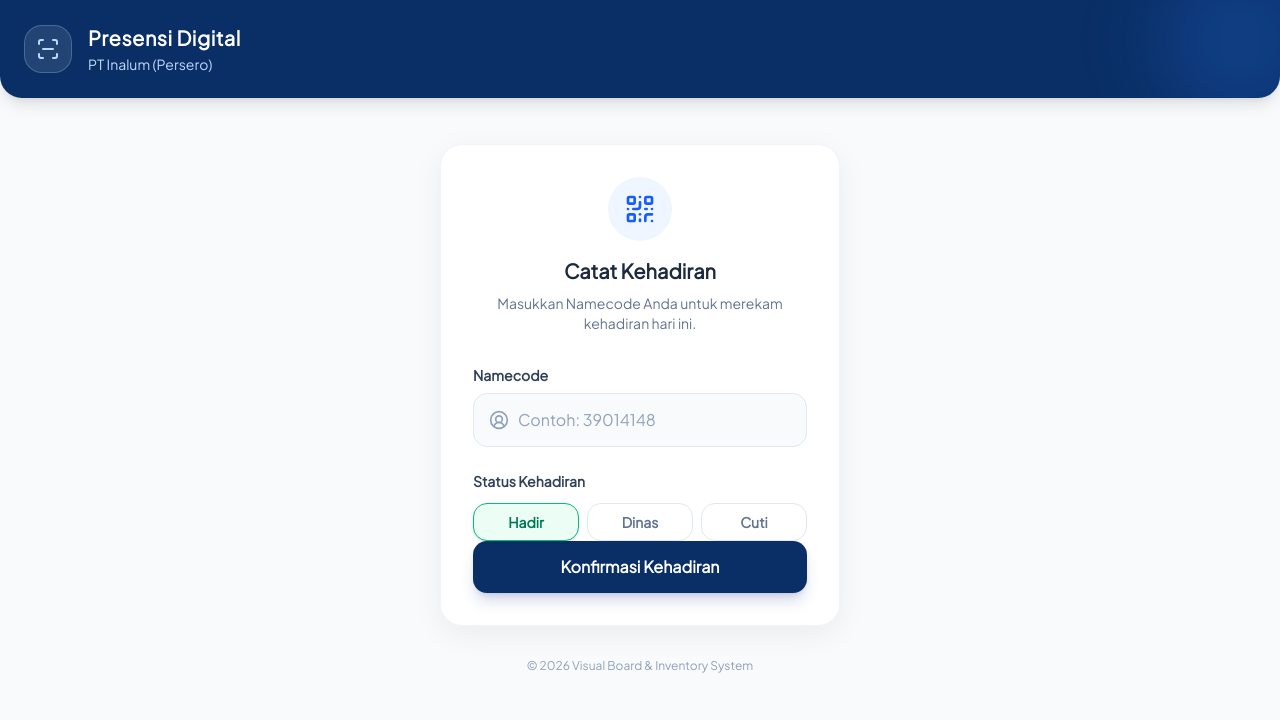
MobileAttendance Page › submits selected attendance status and transitions to confirmation state
The width and height of the screenshot is (1280, 720).
Type "K-1024" into the field labelled "Namecode". click: (640, 420)
box: [473, 393, 807, 447]
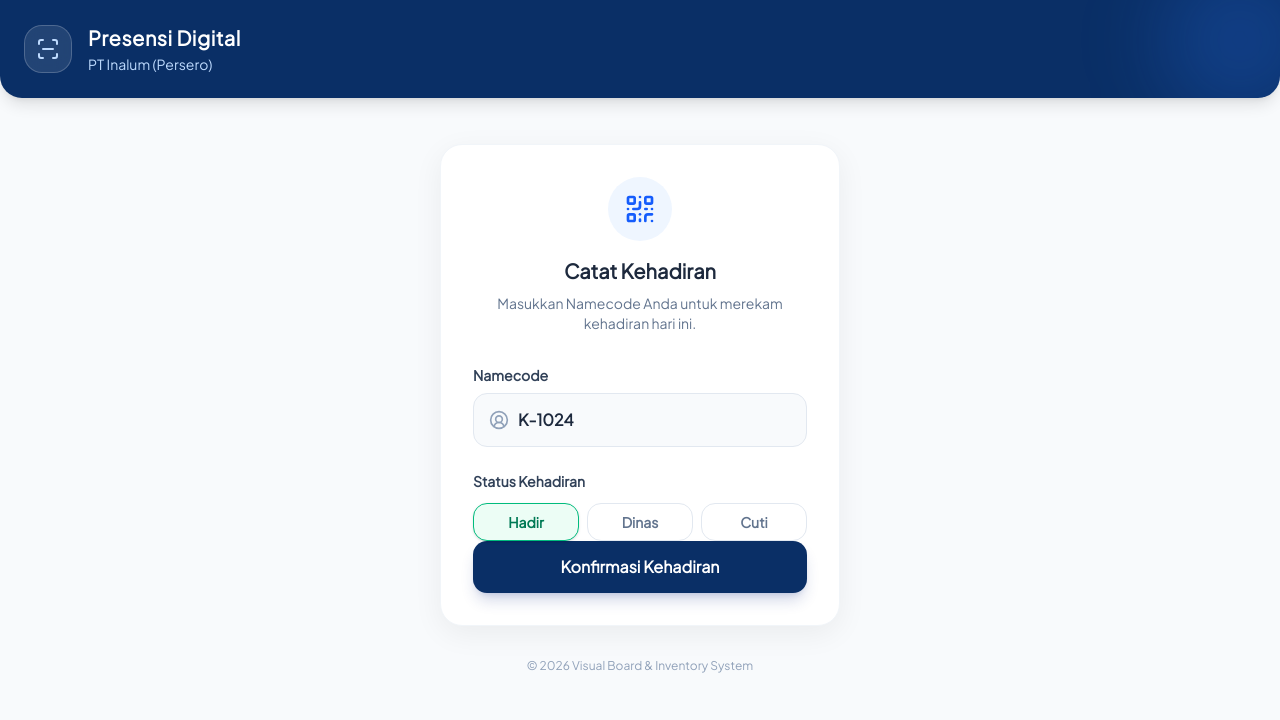
Click the button "Dinas". click: (640, 522)
box: [587, 503, 693, 541]
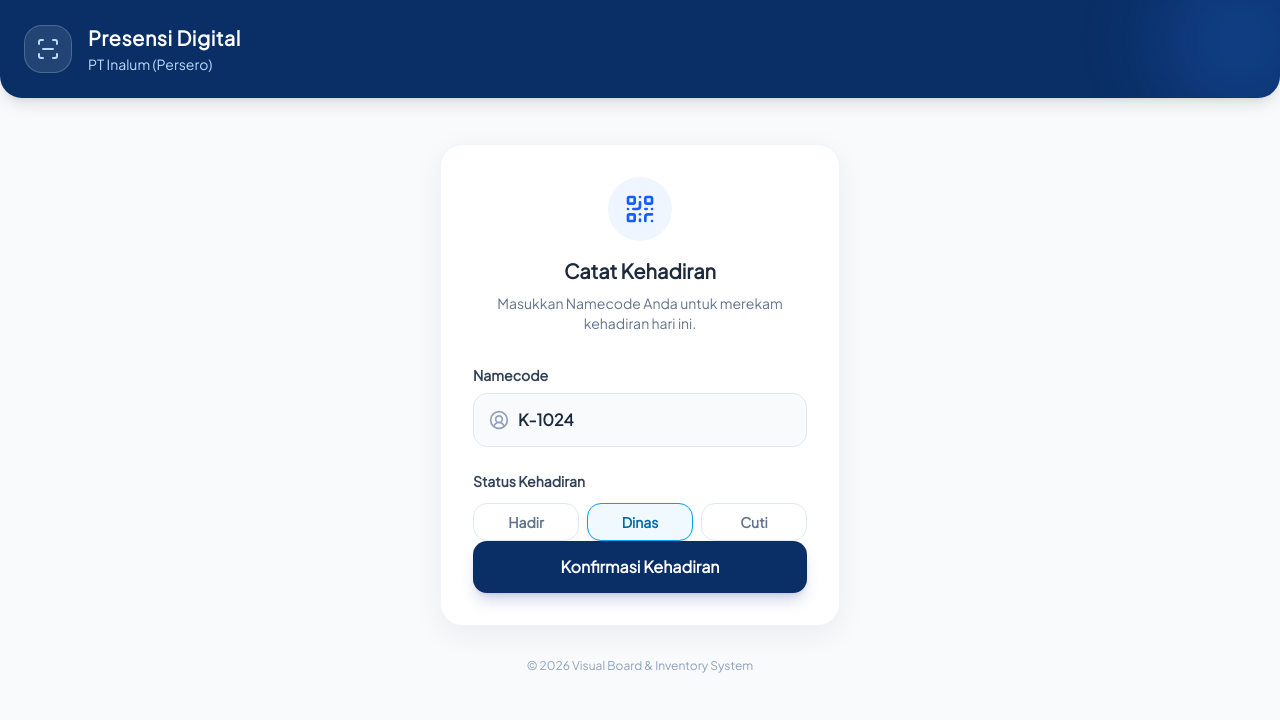
Click the button "Konfirmasi Kehadiran". click: (640, 567)
box: [473, 541, 807, 593]
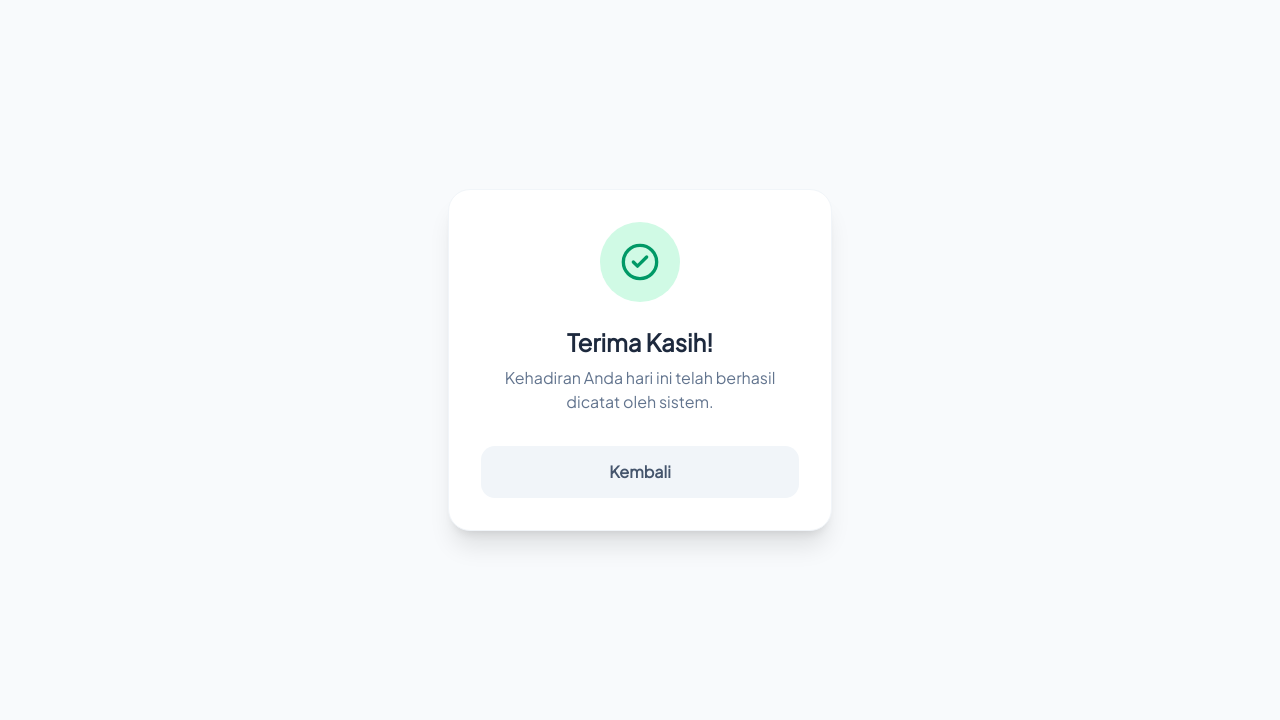
Result: the heading "Terima Kasih!" is shown at [567, 327, 713, 357]
